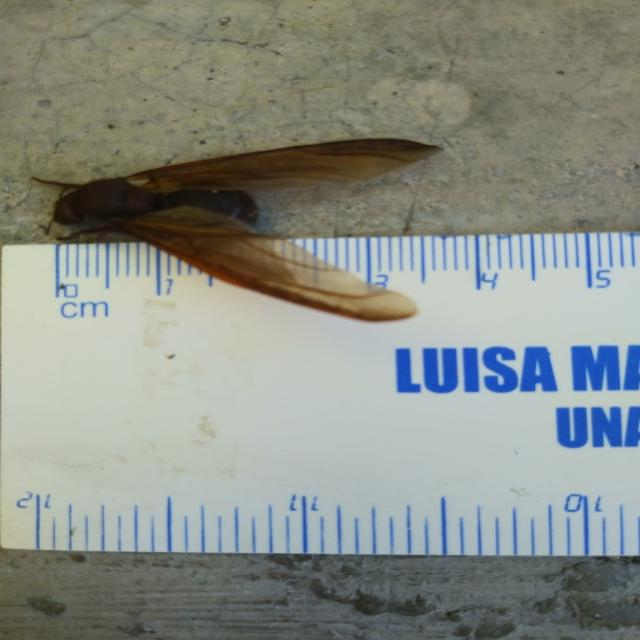Alive-Female-Alate: (30, 137, 446, 322)
